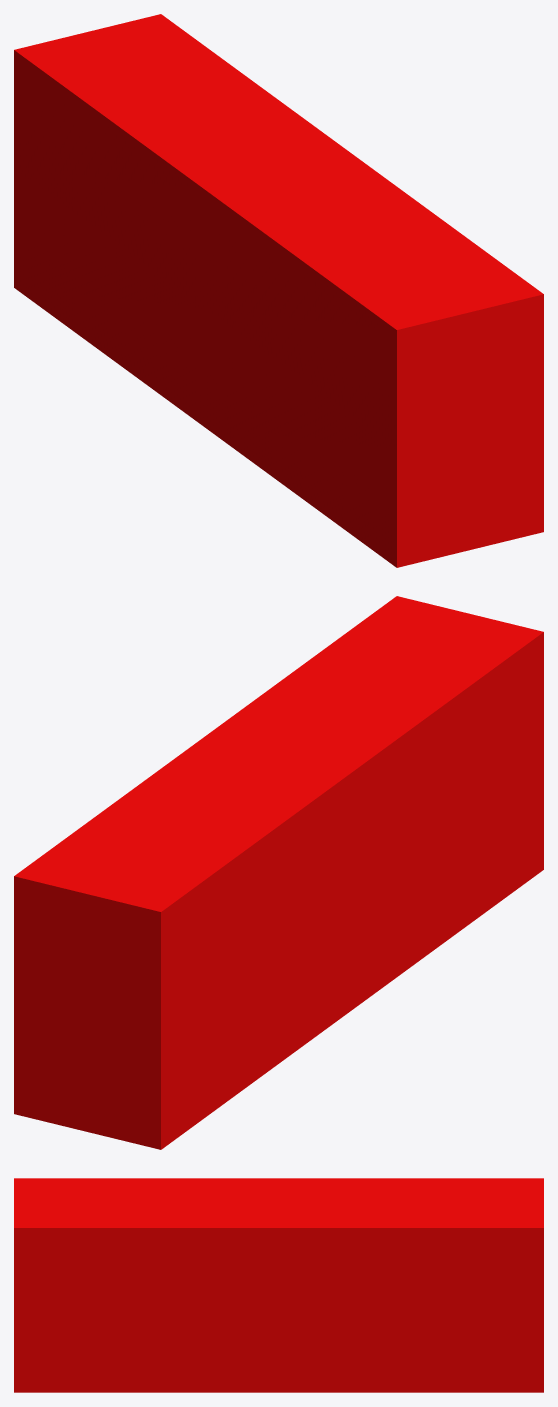
Rendered from fingers16_col.dae.
The picture shows the model from 3 angles, top to bottom: view 1: azimuth 30°, elevation 25°; view 2: azimuth 150°, elevation 25°; view 3: azimuth 270°, elevation 25°; orthographic projection. The views are drawn at different scales.
Parts seen in each view (by area): view 1: node0; view 2: node0; view 3: node0.
Part boxes in pixels (x1,y1,x2,y2): node0: (14, 14, 543, 567); node0: (14, 596, 543, 1149); node0: (14, 1178, 543, 1392).
Size of the model in its own units: 0.0147 by 0.0227 by 0.0661.
